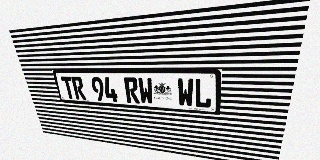4: (102, 77, 118, 102)
9: (90, 77, 106, 101)
L: (194, 78, 212, 108)
R: (124, 77, 140, 104), (71, 76, 87, 100)
T: (60, 76, 76, 99)
W: (177, 78, 194, 107), (137, 77, 154, 105)
